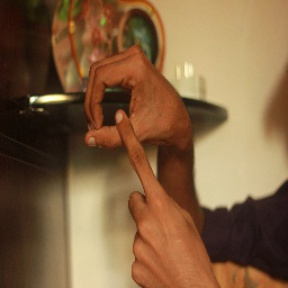Q: (66, 45, 190, 226)
